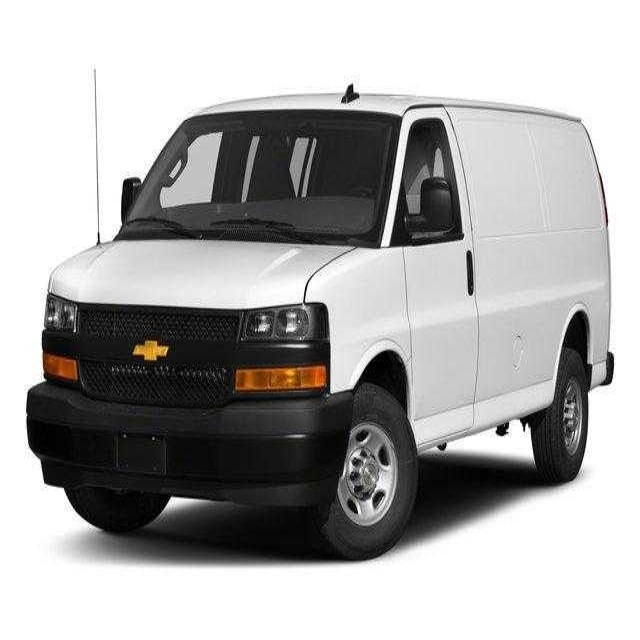Van: (26, 89, 614, 563)
